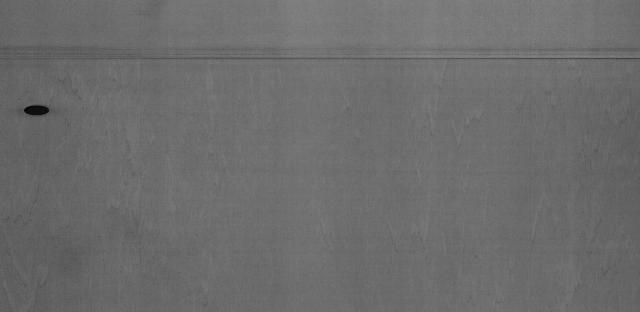punching_hole: (19, 102, 56, 121)
welding_line: (0, 47, 638, 66)
